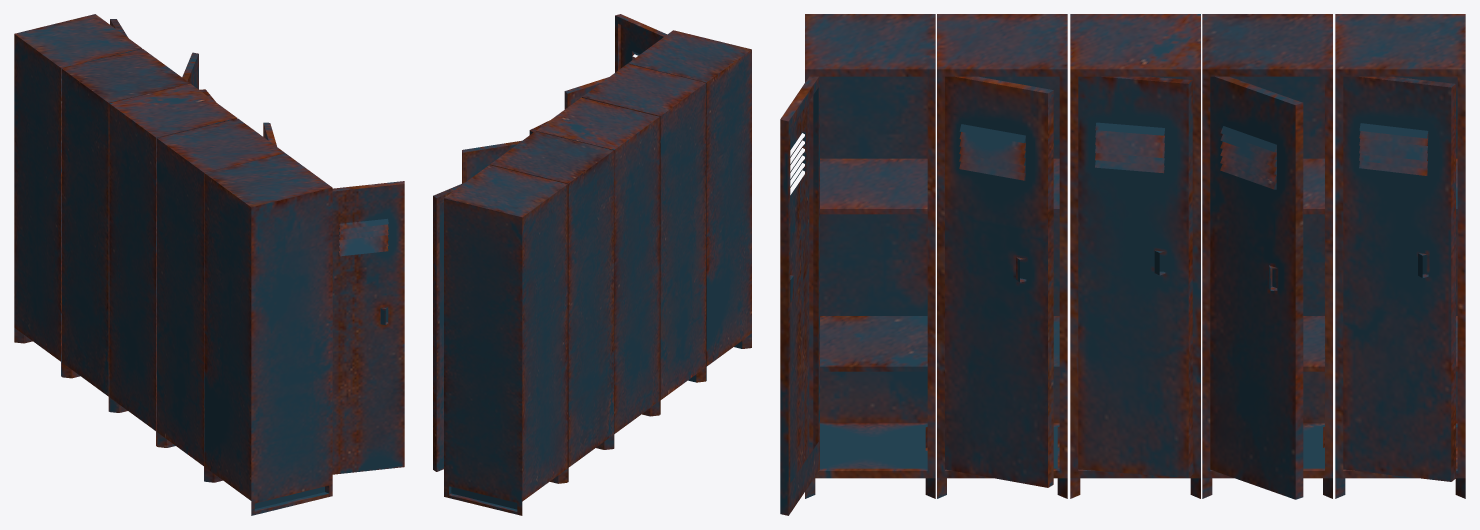
File: locker.fbx
3 renders of one model, left to right at view 1: azimuth 30°, elevation 25°; view 2: azimuth 150°, elevation 25°; view 3: azimuth 270°, elevation 25°, orthographic. The views are drawn at different scales.
Parts seen in each view (by area): view 1: door; view 2: door; view 3: door.
Part boxes in pixels (x1,y1,x2,y2): door: (14, 14, 404, 515); door: (433, 14, 751, 515); door: (780, 14, 1465, 515).
Bounding box in the file's own units: 363 × 726 × 1050.
1 material, 1 textured.
